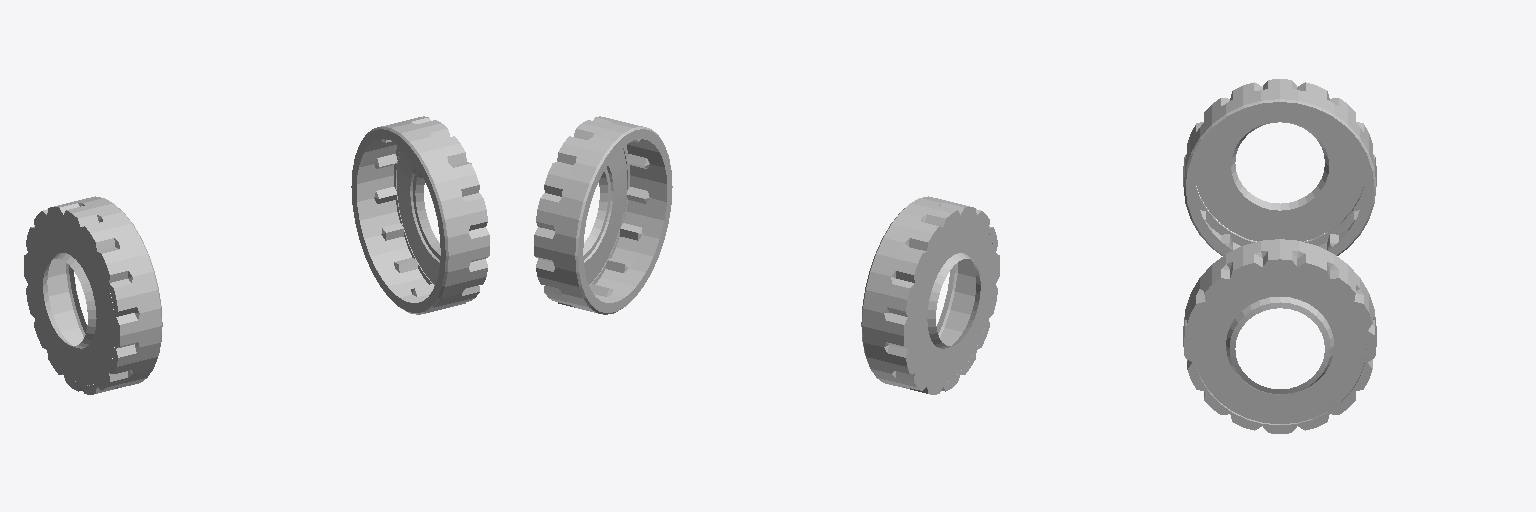
Rendered from MTB_BB-sharedassets2MTB.assets-17012.obj.
3 renders of one model, left to right at view 1: azimuth 30°, elevation 25°; view 2: azimuth 150°, elevation 25°; view 3: azimuth 270°, elevation 25°, orthographic.
Visible parts, largest first — view 1: MTB_BB_0; view 2: MTB_BB_0; view 3: MTB_BB_0.
Boxes of the visible parts, x1=… form: MTB_BB_0: x1=24, y1=116, x2=489, y2=394; MTB_BB_0: x1=534, y1=116, x2=999, y2=394; MTB_BB_0: x1=1183, y1=79, x2=1376, y2=433.
Bounding box in the file's own units: 0.086 × 0.0377 × 0.0377.